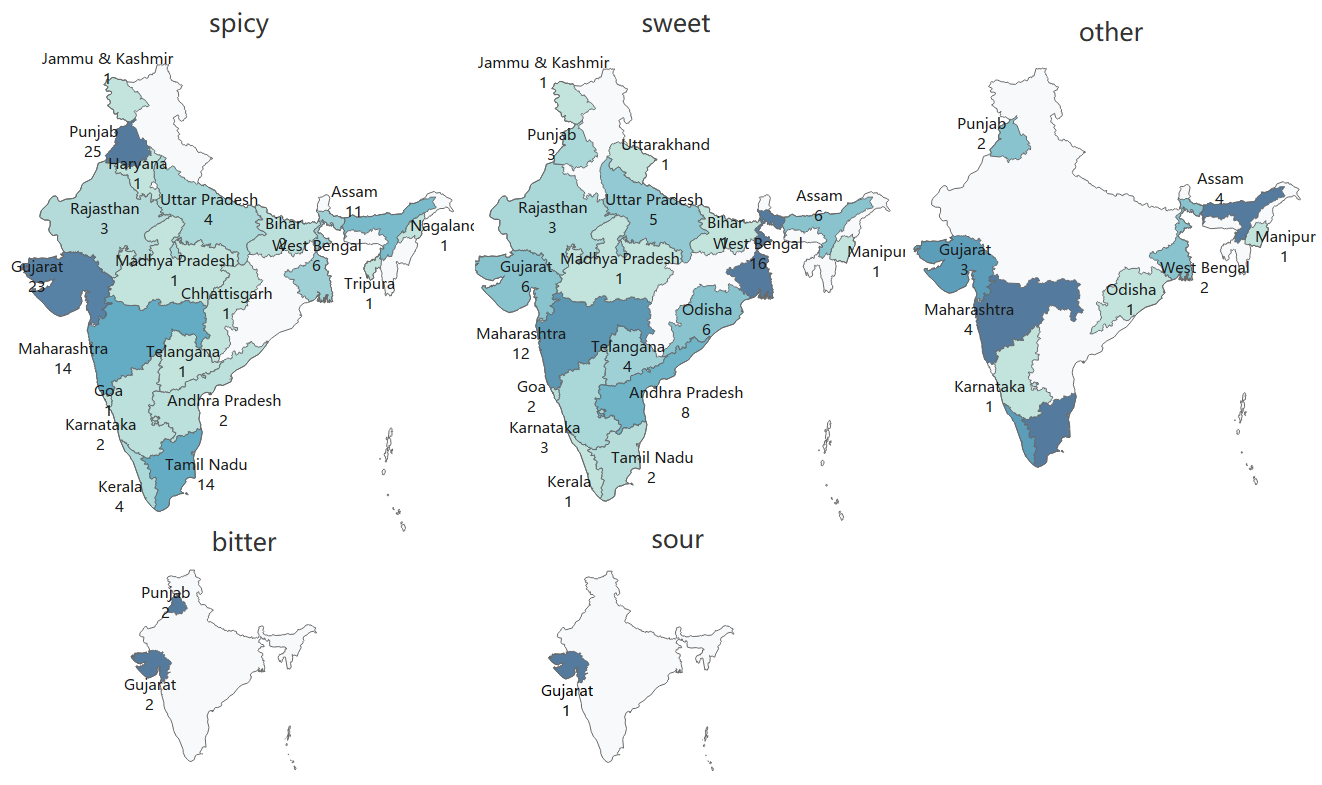

What the dashboard file says about the page in this screenshot:
{"tool":"tableau","page":{"name":"各州风味","canvas":[1000,1000],"units":"permille","ordinal":3},"visuals":[{"type":"worksheet","title":"spicy","mark":"Automatic","box":[2.4,0,289.7,974.5]},{"type":"worksheet","title":"sweet","mark":"Automatic","box":[279.4,0,295.8,813]},{"type":"worksheet","title":"other","mark":"Automatic","box":[549.2,8.1,260.1,556.3]},{"type":"worksheet","title":"sour","mark":"Automatic","box":[194.9,579.6,460.5,328.7]}]}

Visuals, with their boxes on the dashboard's canvas, which has no fixed pixel size, in thousandths of its width and height (x1, y1, x2, y2). These are canvas units, not pixel positions in the 1322x785 screenshot, which may show the page scaled, cropped or inside an application window:
"spicy" worksheet: l=2, t=0, r=292, b=974
"sweet" worksheet: l=279, t=0, r=575, b=813
"other" worksheet: l=549, t=8, r=809, b=564
"sour" worksheet: l=195, t=580, r=655, b=908
